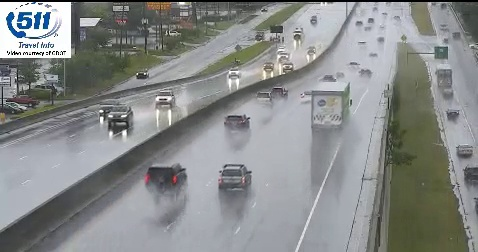car: (146, 164, 187, 191), (218, 165, 252, 192), (225, 114, 250, 132), (270, 86, 288, 100), (255, 92, 271, 106), (300, 90, 316, 103)
small-truck: (313, 82, 350, 129)
